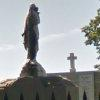Statue: (10, 1, 49, 72)
